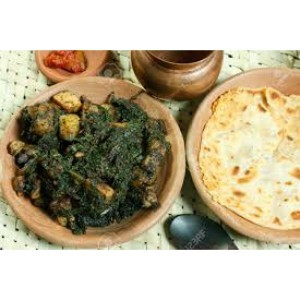spinach_brain food: (24, 99, 152, 229)
